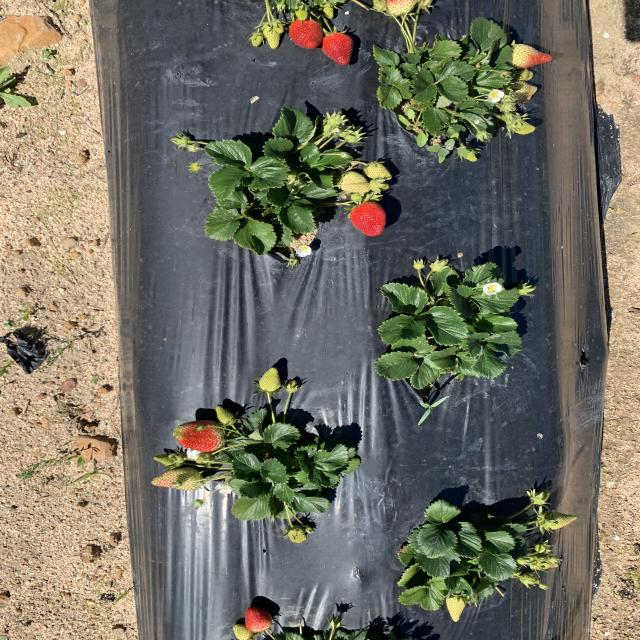unripe: (173, 421, 225, 449), (350, 203, 388, 237), (322, 32, 355, 65), (289, 17, 324, 48), (246, 604, 271, 632)
